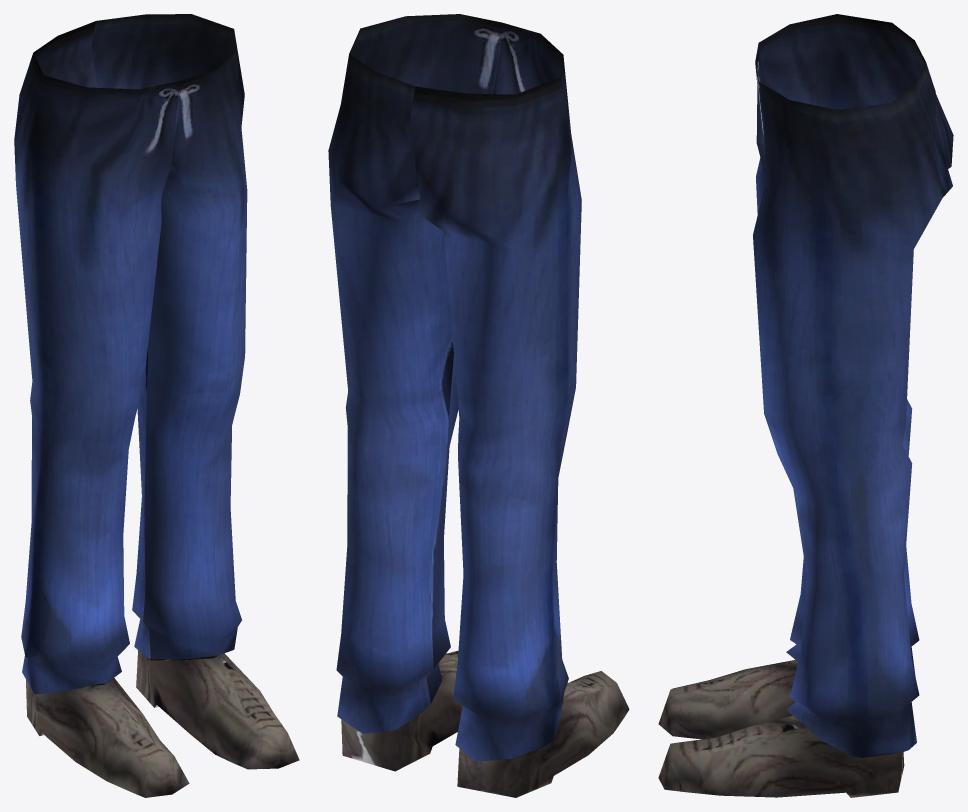
Rendered from pantsShape.obj.
3 views of the same model, side by side, from view 1: azimuth 30°, elevation 25°; view 2: azimuth 150°, elevation 25°; view 3: azimuth 270°, elevation 25° (orthographic). The views are drawn at different scales.
Visible parts, largest first — view 1: pants CharacterRoot; view 2: pants CharacterRoot; view 3: pants CharacterRoot.
Boxes of the visible parts, bbox=[...] form: pants CharacterRoot: bbox=[14, 14, 299, 797]; pants CharacterRoot: bbox=[328, 14, 629, 797]; pants CharacterRoot: bbox=[658, 14, 953, 797].
Bounding box in the file's own units: 36.28 × 109 × 42.31.
Materials: 1 (1 with a texture image).
